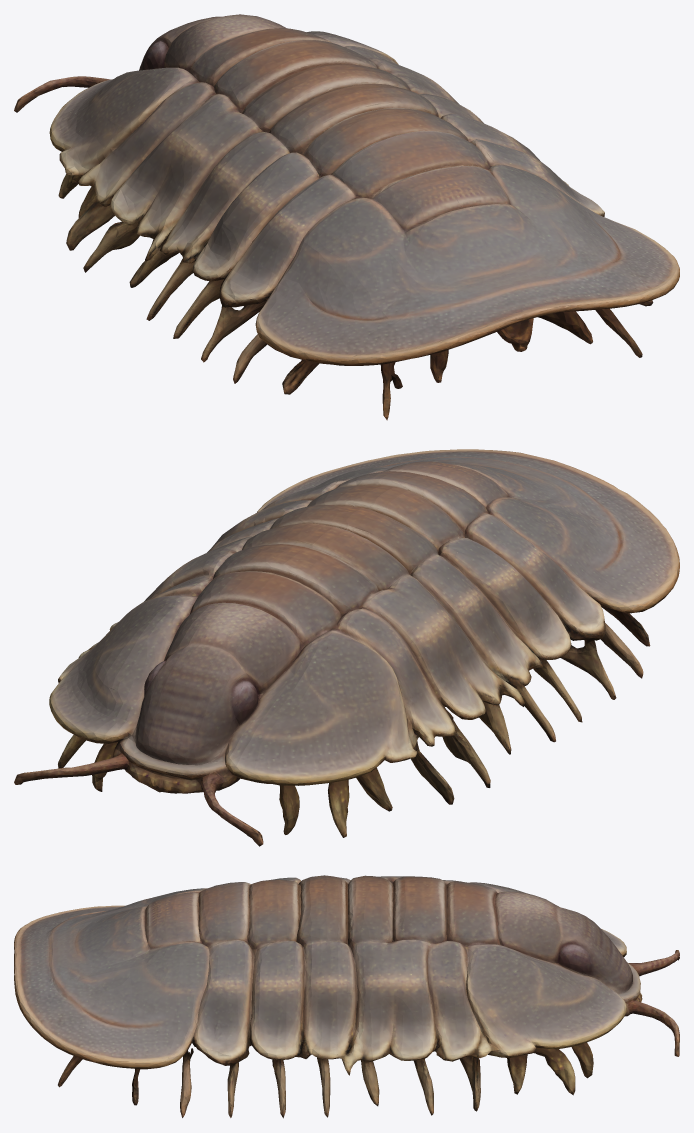
3 views of the same model, one above another, from view 1: azimuth 30°, elevation 25°; view 2: azimuth 150°, elevation 25°; view 3: azimuth 270°, elevation 25° (orthographic). The views are drawn at different scales.
Parts seen in each view (by area): view 1: world; view 2: world; view 3: world.
Part boxes in pixels (x1=…): world: x1=14, y1=14, x2=679, y2=420; world: x1=14, y1=449, x2=679, y2=846; world: x1=14, y1=875, x2=679, y2=1118.
Size of the model in its own units: 0.5936 by 0.2545 by 1.
Materials: 1 (1 with a texture image).
